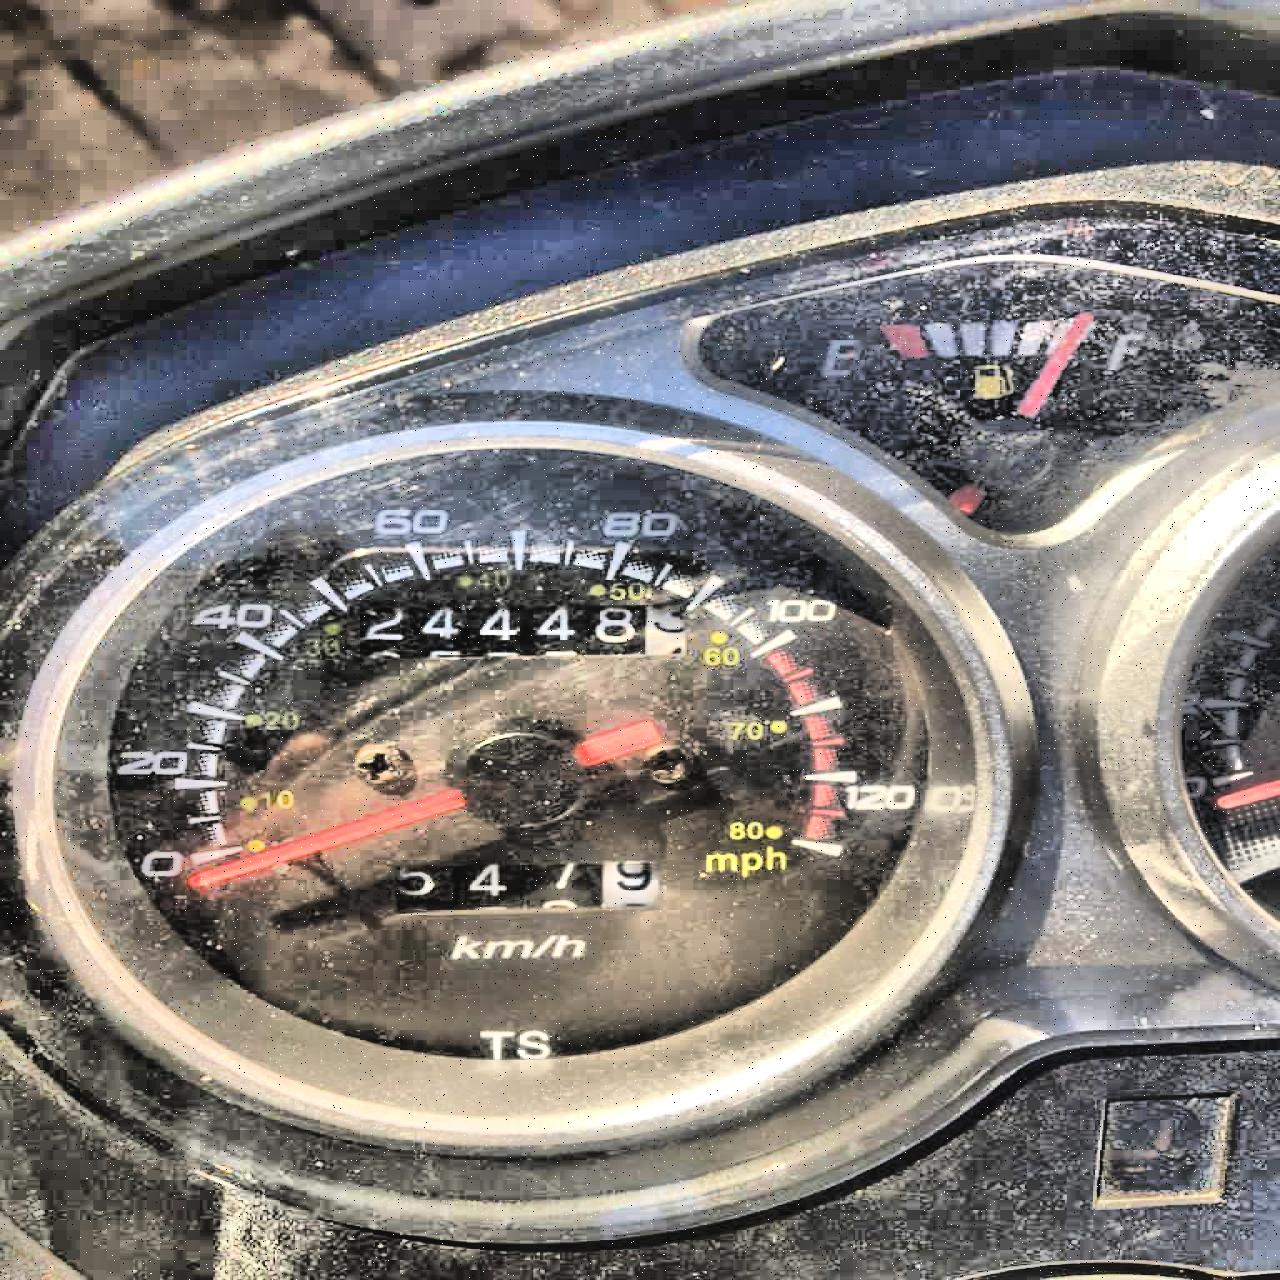2: (360, 600, 403, 640)
3: (651, 600, 685, 634)
4: (533, 602, 574, 640), (418, 604, 459, 640), (477, 605, 517, 640)
8: (593, 604, 635, 642)
odometer: (353, 599, 687, 662)
